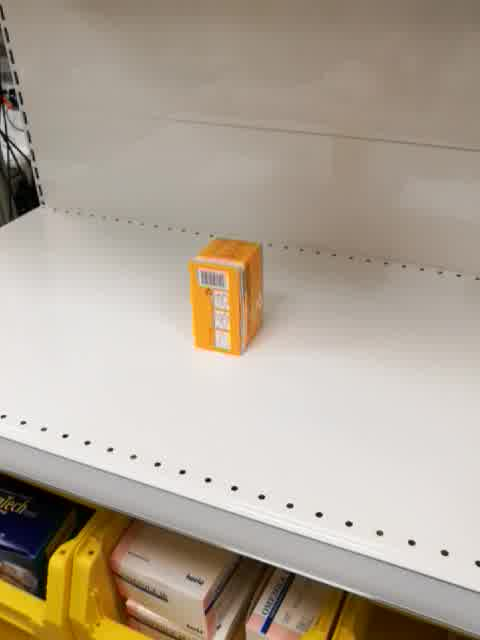jasminetea: (189, 237, 264, 358)
